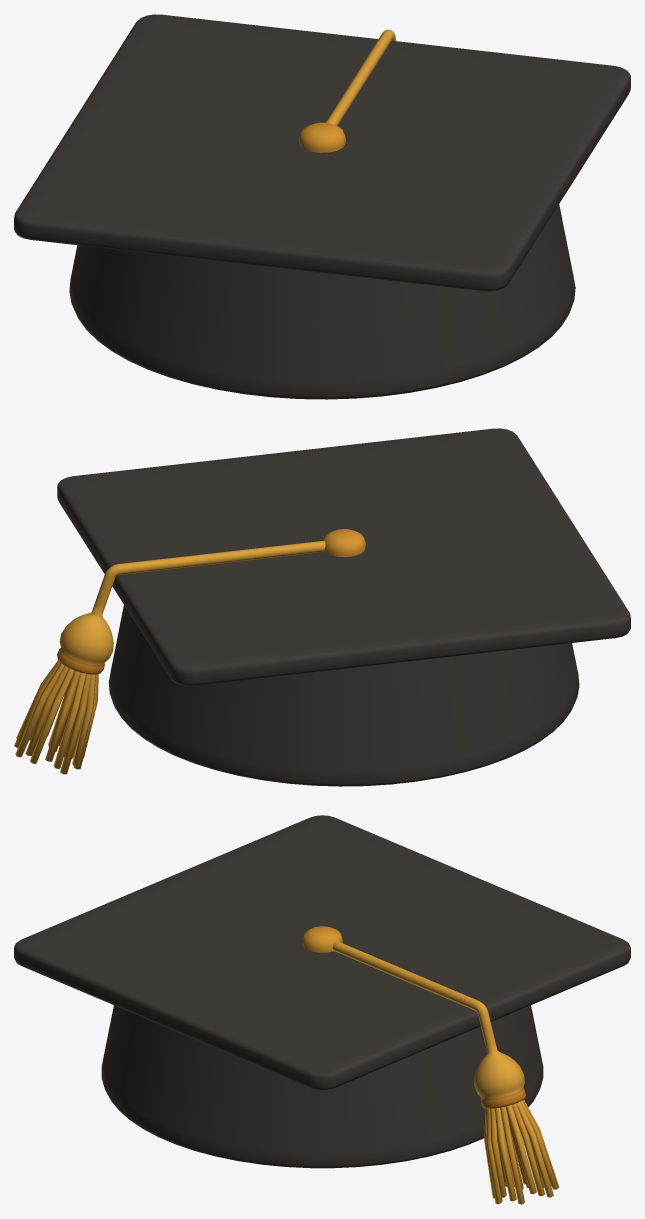
The model's file is Cosmetic_Graduation_Cap.glb.
3 renders of one model, top to bottom at view 1: azimuth 30°, elevation 25°; view 2: azimuth 150°, elevation 25°; view 3: azimuth 270°, elevation 25°, orthographic. The views are drawn at different scales.
Parts seen in each view (by area): view 1: Graduation_Cap, Tassel; view 2: Graduation_Cap, Tassel; view 3: Graduation_Cap, Tassel.
Part boxes in pixels (x1,y1,x2,y2): Graduation_Cap: (14,14,630,399); Tassel: (326,29,395,125); Graduation_Cap: (57,428,630,786); Tassel: (14,540,325,774); Graduation_Cap: (14,815,630,1168); Tassel: (332,941,559,1204).
Bounding box in the file's own units: 1.1 × 0.3735 × 1.1.
